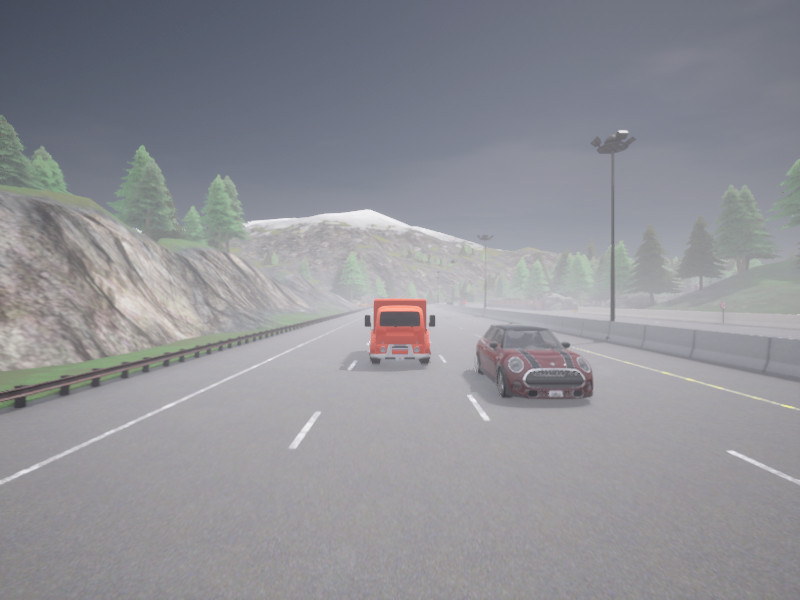vehicle: (475, 320, 593, 398), (364, 299, 434, 364), (461, 300, 467, 304), (446, 301, 451, 304), (458, 303, 463, 305)
